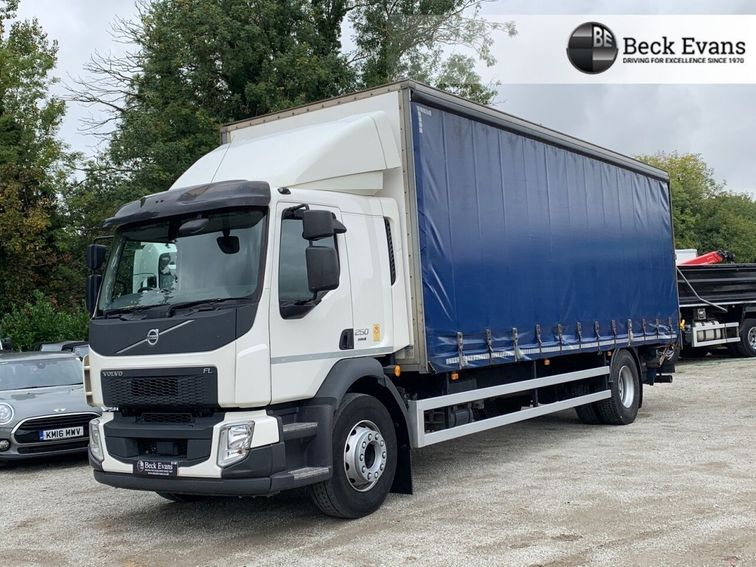Car: (0, 349, 105, 463)
Semi: (87, 80, 683, 519)
